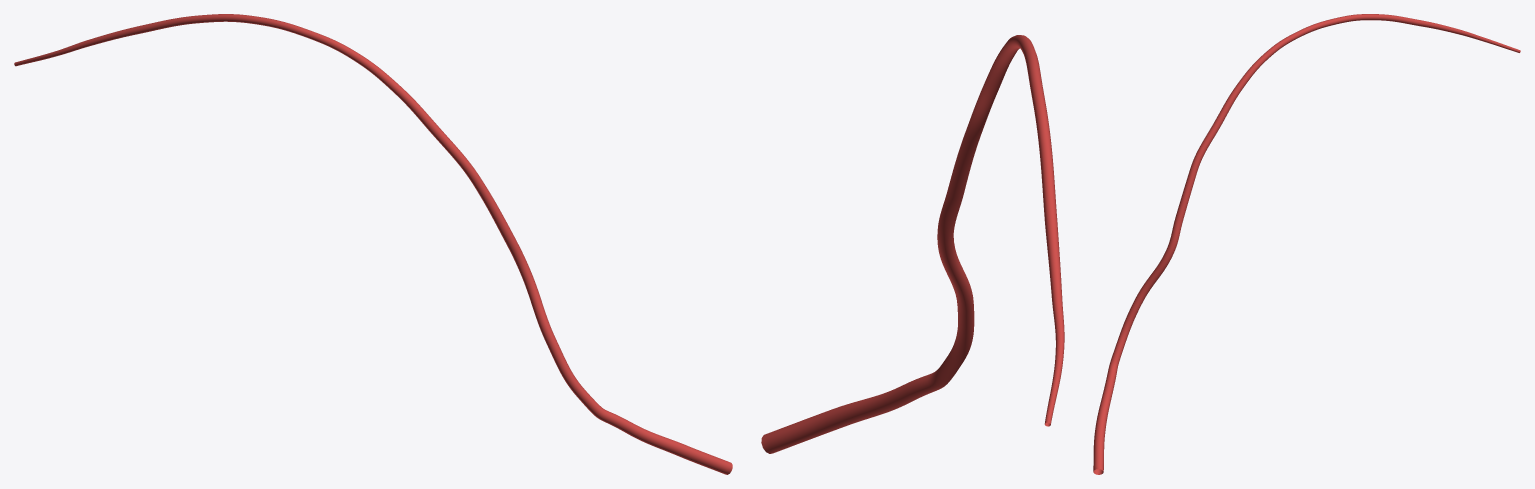
3 renders of one model, left to right at view 1: azimuth 30°, elevation 25°; view 2: azimuth 150°, elevation 25°; view 3: azimuth 270°, elevation 25°, orthographic. The views are drawn at different scales.
Parts seen in each view (by area): view 1: 右侧肋下动脉; view 2: 右侧肋下动脉; view 3: 右侧肋下动脉.
Boxes of the visible parts, x1,y1,x2,y2 form: 右侧肋下动脉: (14, 14, 732, 474); 右侧肋下动脉: (761, 35, 1064, 453); 右侧肋下动脉: (1093, 14, 1520, 474).
Size of the model in its own units: 0.1152 by 0.1041 by 0.1205.
